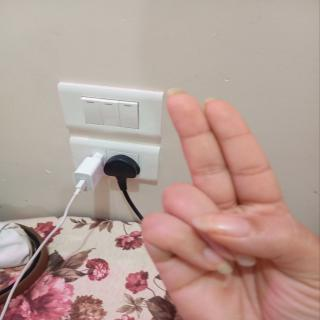TA: (129, 81, 320, 320)
